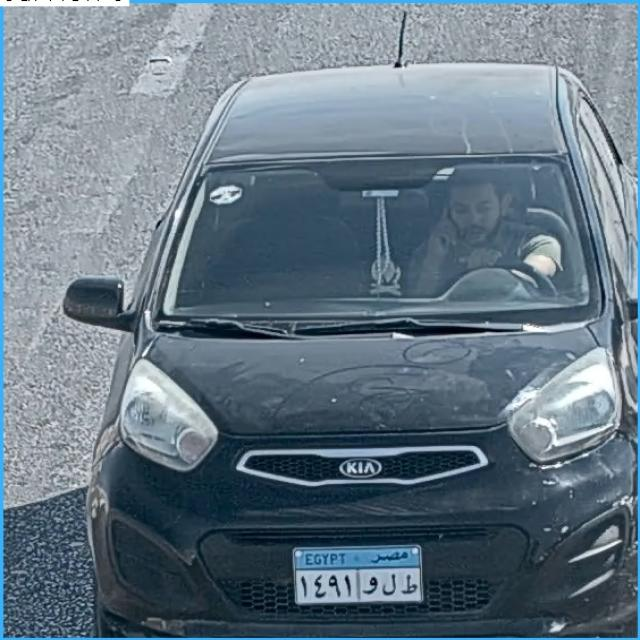windshield: (152, 159, 613, 322)
